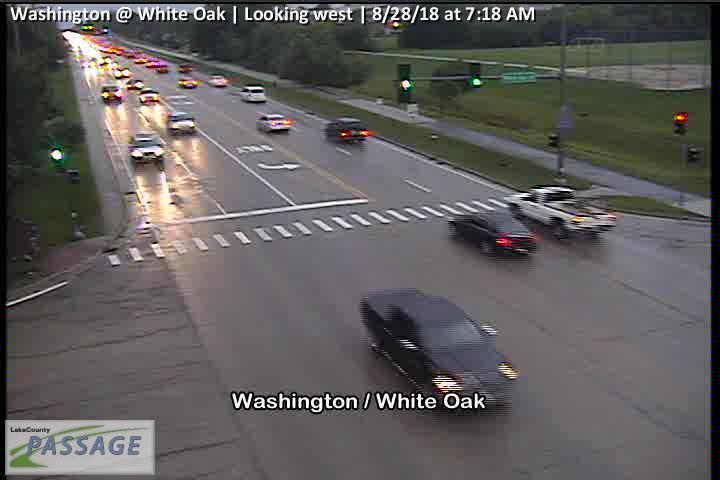SUV: (127, 134, 166, 166), (164, 110, 196, 138), (237, 85, 266, 103), (111, 66, 133, 81), (177, 76, 198, 90), (177, 62, 194, 73), (153, 63, 169, 73)
Sedan: (357, 284, 524, 414), (446, 209, 539, 260), (322, 117, 372, 146), (254, 113, 292, 134), (98, 84, 124, 103), (137, 88, 162, 107), (206, 72, 229, 88), (124, 78, 146, 90)
Truck: (503, 182, 618, 242)
